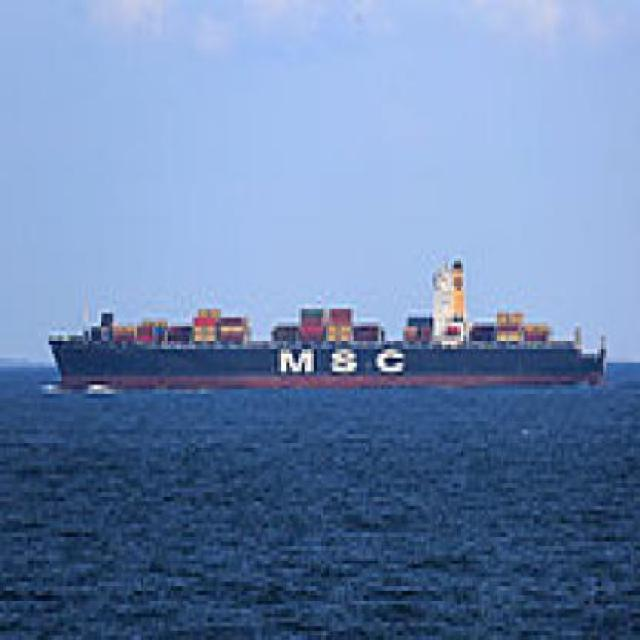container: (40, 243, 614, 409)
